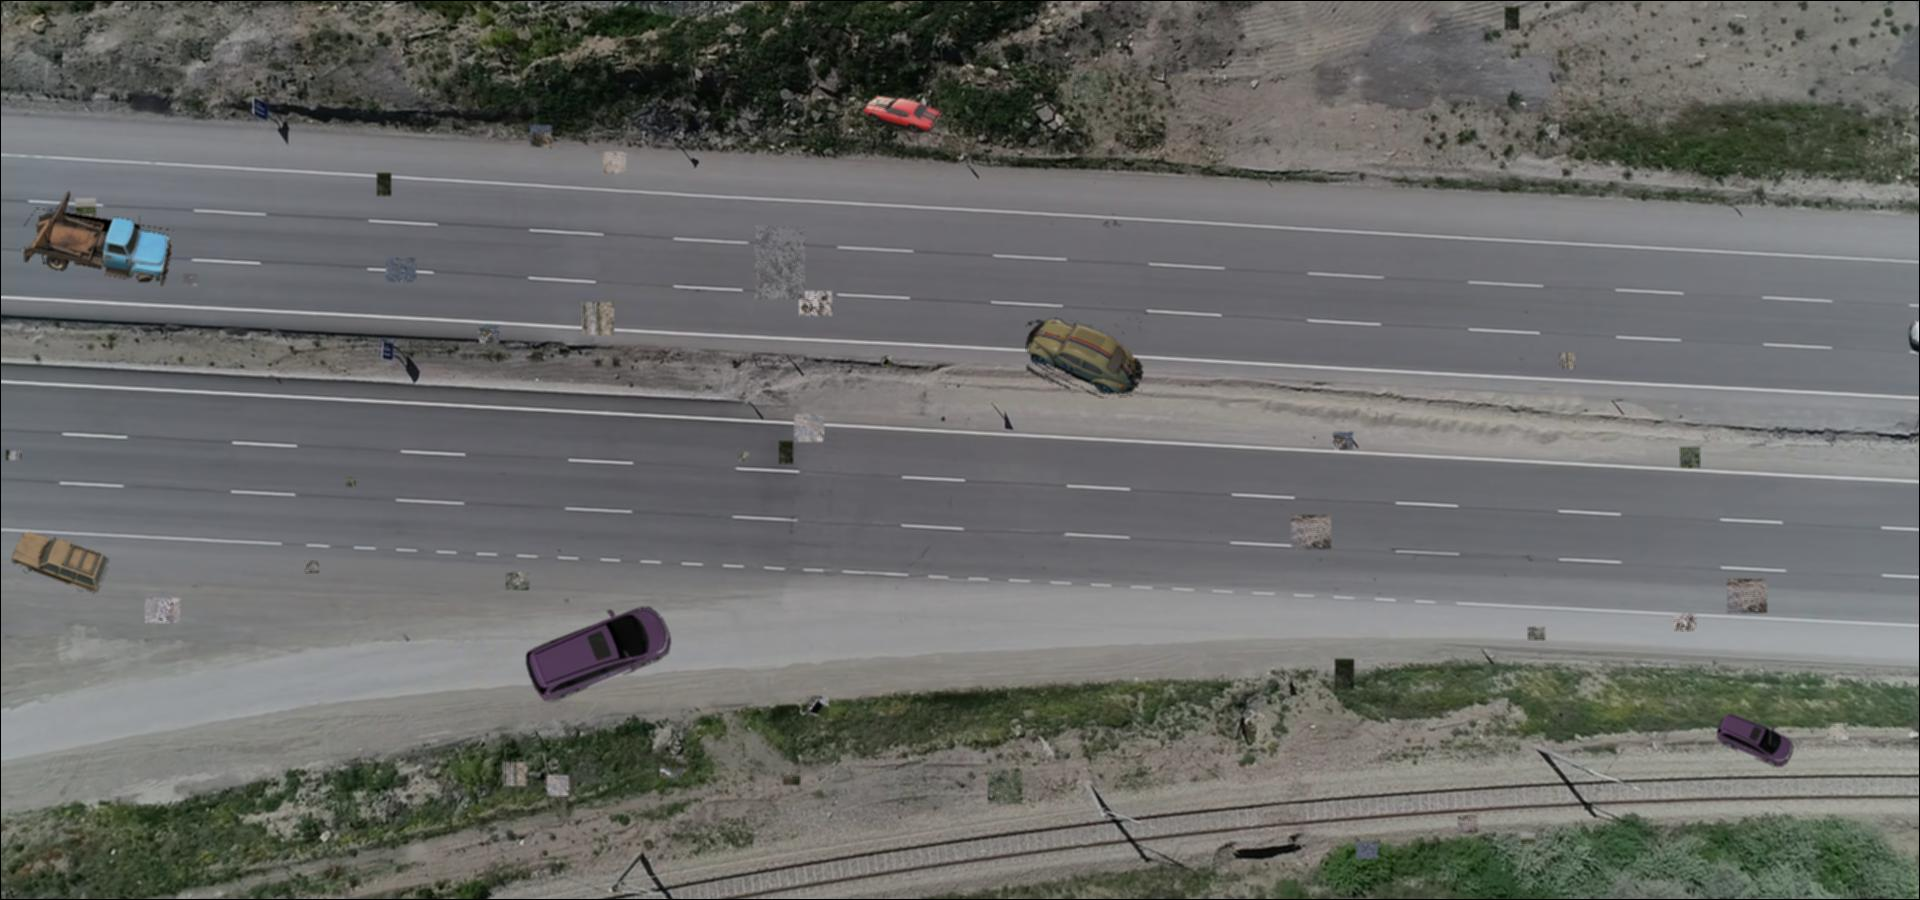arac: (523, 600, 671, 703), (24, 191, 174, 287), (1026, 318, 1142, 398), (11, 528, 110, 598), (1716, 711, 1794, 769), (862, 93, 943, 133)
